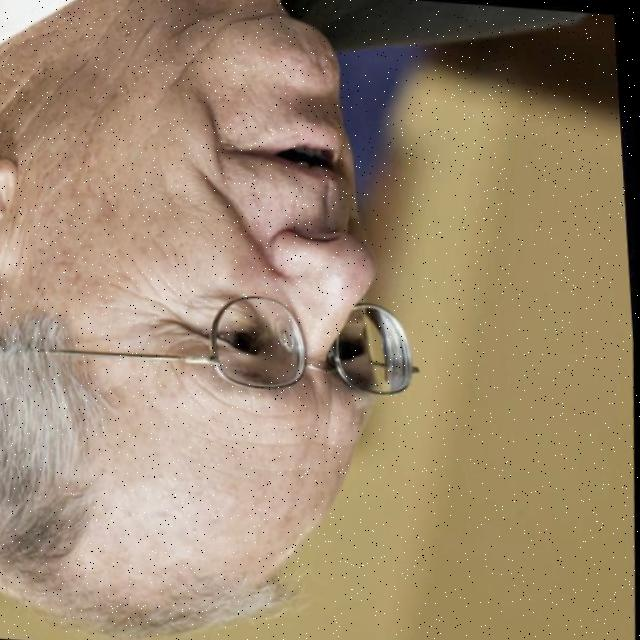puffy_eyes: (198, 295, 269, 328)
